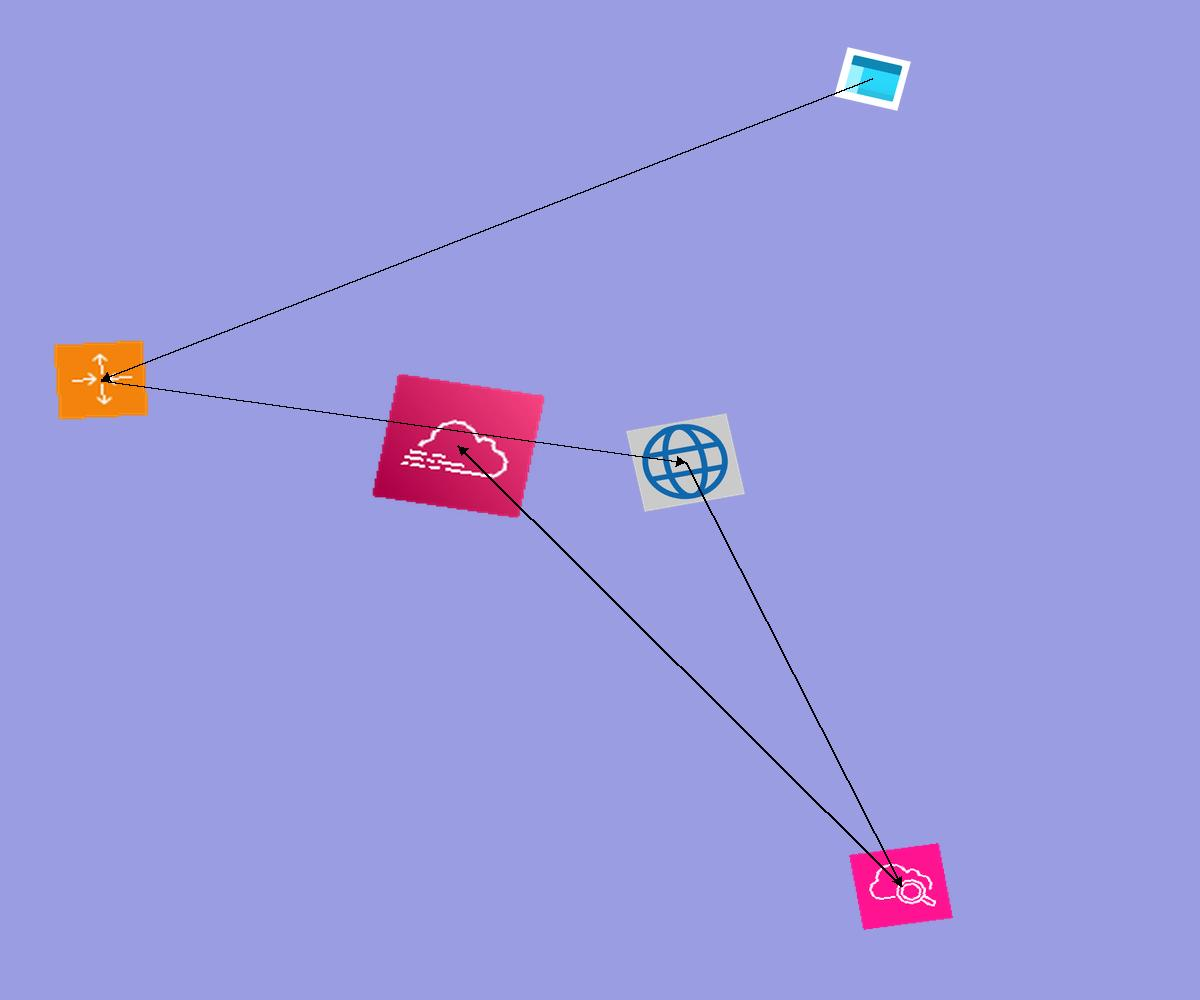AWS-CloudTrail: (371, 373, 546, 519)
AWS-CloudWatch: (849, 843, 953, 930)
AWS-Scaling-group: (52, 339, 150, 421)
Azure_http: (626, 413, 745, 512)
Azure_management-portal: (834, 47, 911, 111)
